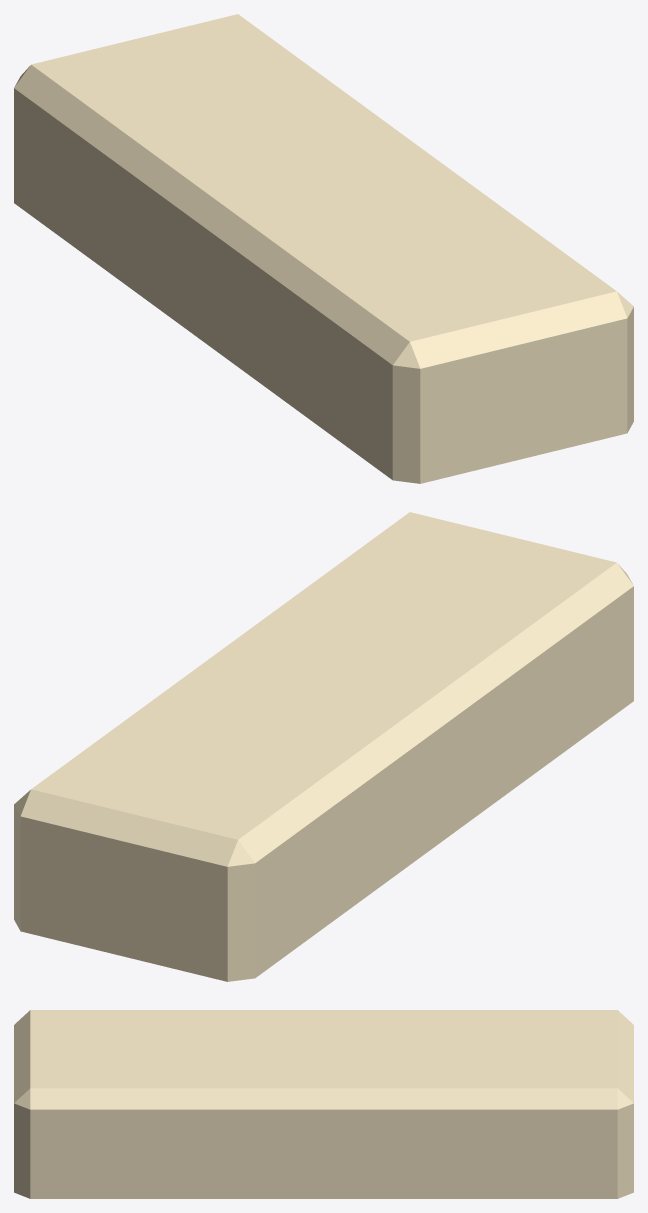
The model's file is MotherQueen_Glow_01.fbx.
3 views of the same model, one above another, from view 1: azimuth 30°, elevation 25°; view 2: azimuth 150°, elevation 25°; view 3: azimuth 270°, elevation 25° (orthographic). The views are drawn at different scales.
Parts seen in each view (by area): view 1: pCube3; view 2: pCube3; view 3: pCube3.
Part boxes in pixels (<box>): pCube3: <box>14,14,633,483</box>; pCube3: <box>14,512,633,981</box>; pCube3: <box>14,1010,633,1198</box>.
Bounding box in the file's own units: 88.17 × 46.95 × 253.
